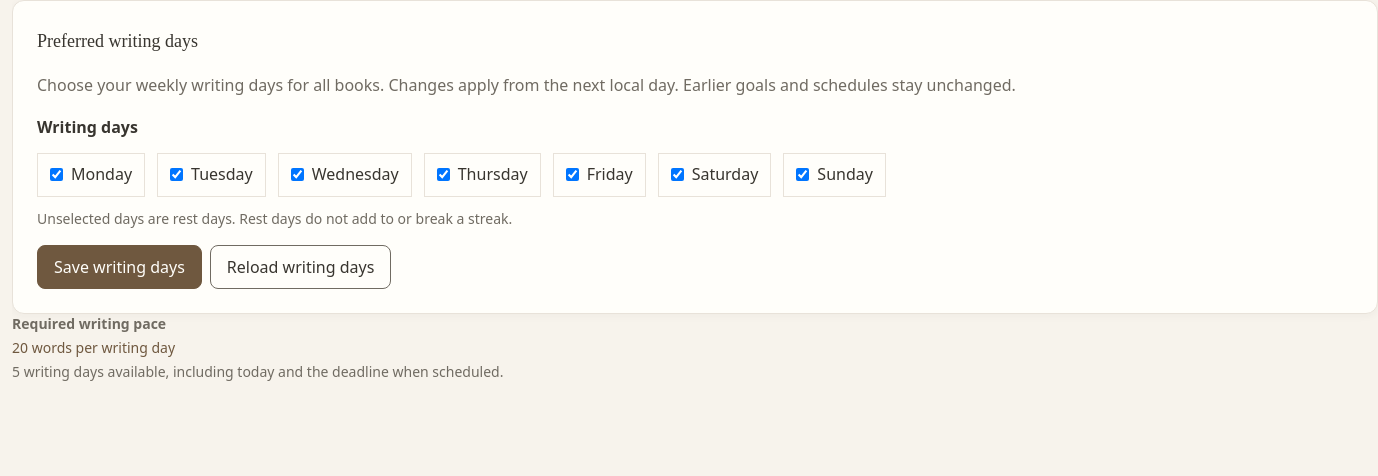
Test: a late focus reload cannot undo a successfully committed schedule
The image size is (1378, 476).
Click the checkbox labelled "Sunday" at (803, 175), box [796, 168, 809, 181]
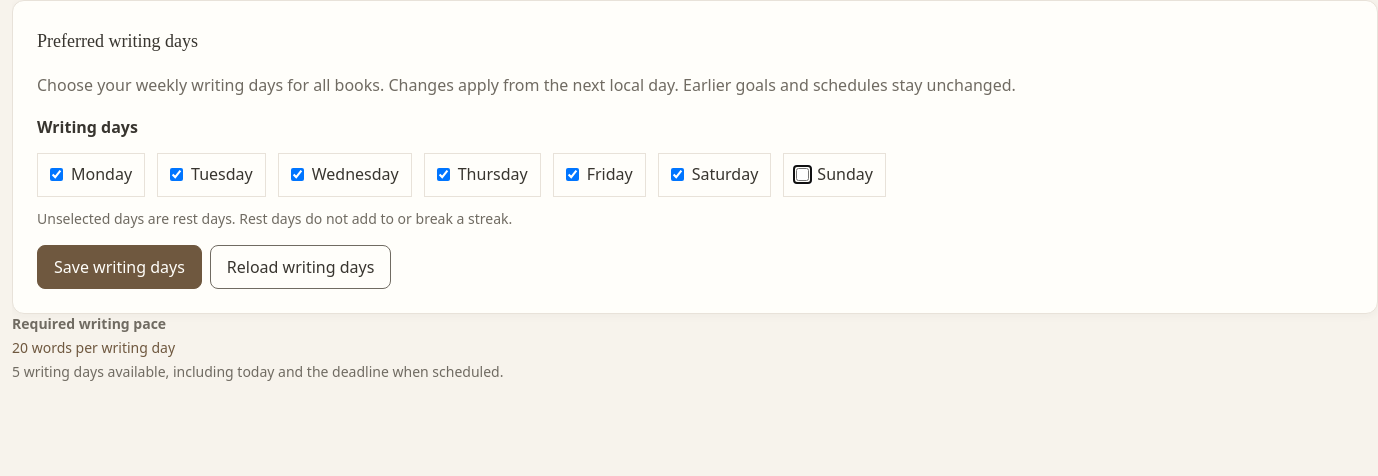
Click the checkbox labelled "Saturday" at (677, 175), box [671, 168, 684, 181]
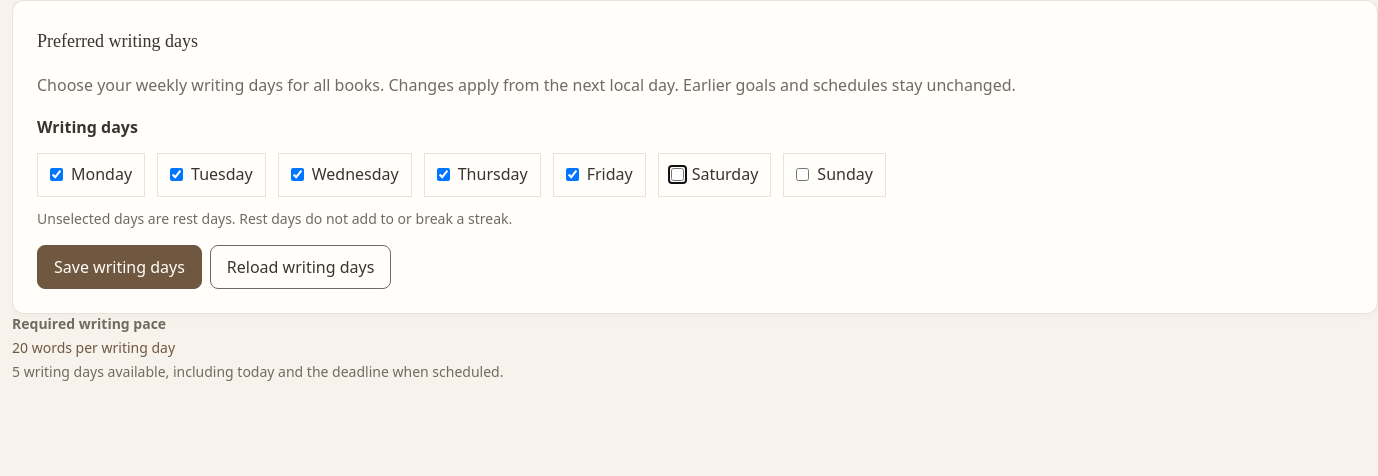
Click the button "Save writing days" at (119, 267), box [37, 245, 202, 289]
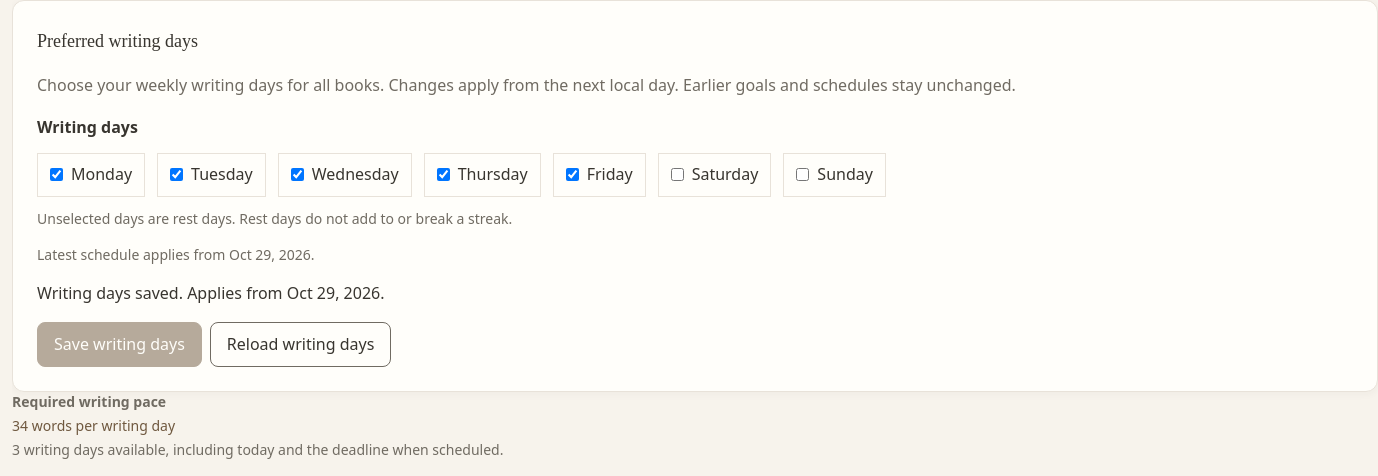
Expected: the checkbox labelled "Sunday" is not checked, [796, 168, 809, 181]
Expected: the text "34 words per writing day" is shown, [12, 416, 175, 435]
